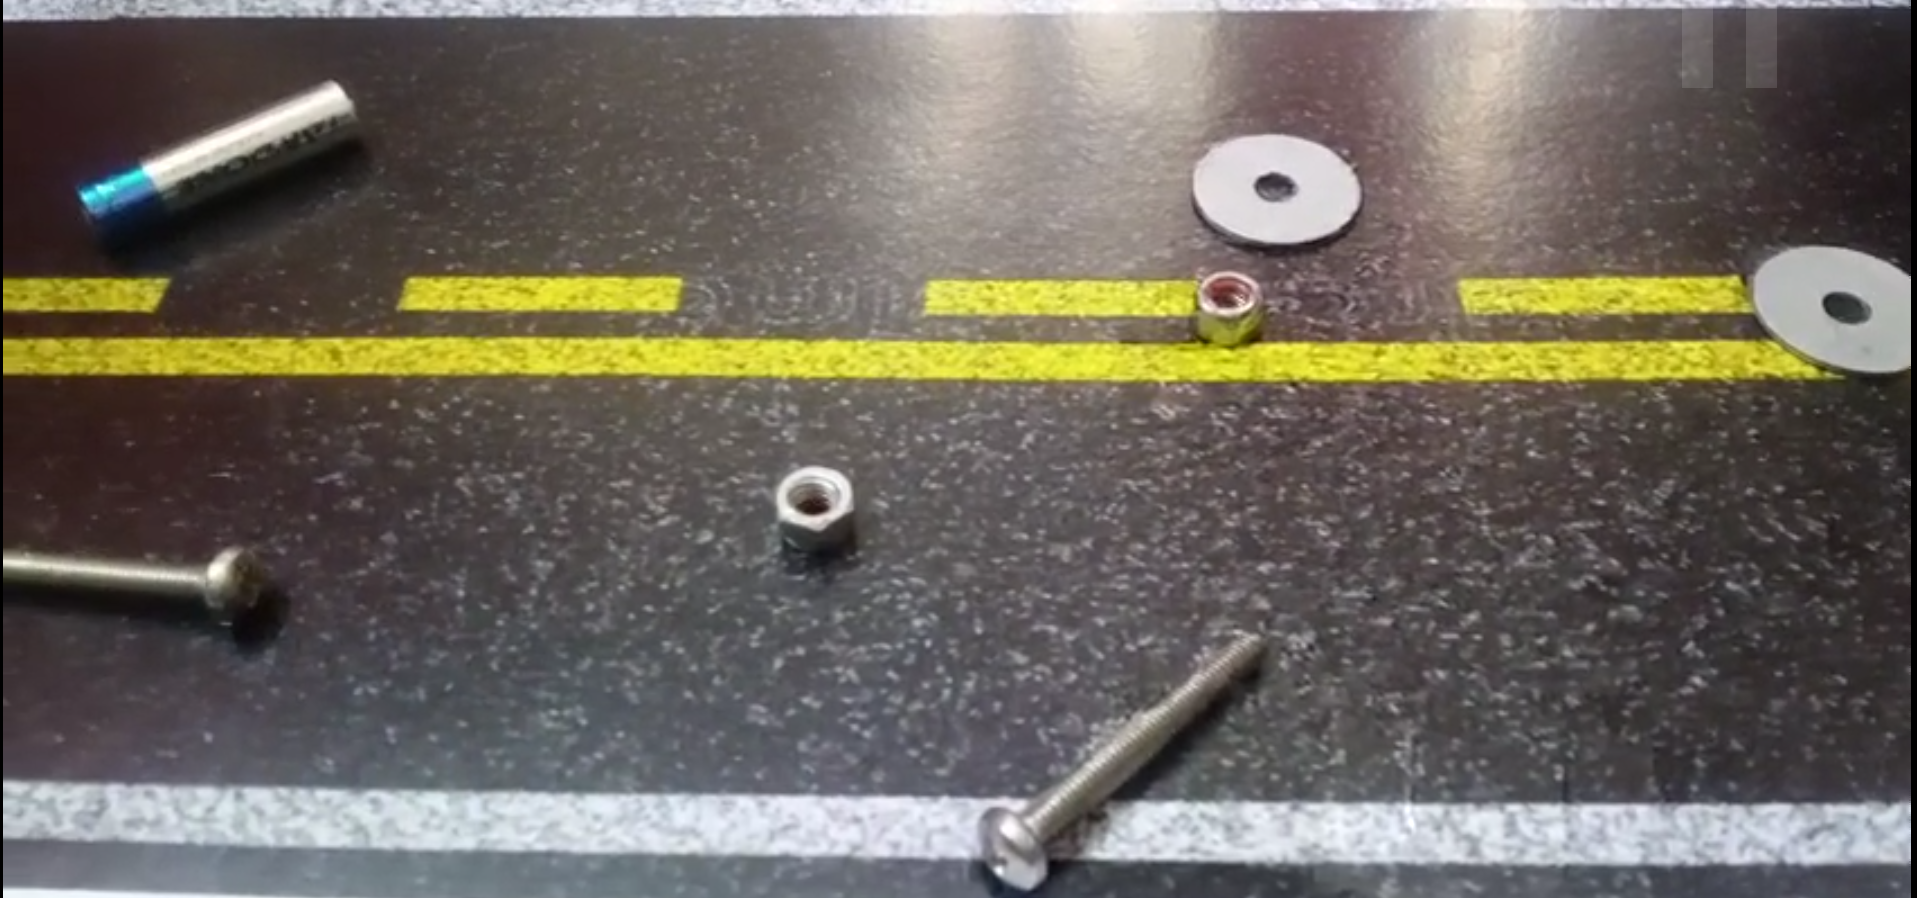metal: (968, 591, 1273, 889), (73, 75, 362, 239), (1, 527, 265, 655), (1748, 241, 1912, 381), (1188, 131, 1367, 249), (767, 463, 862, 550), (1188, 270, 1270, 348)
